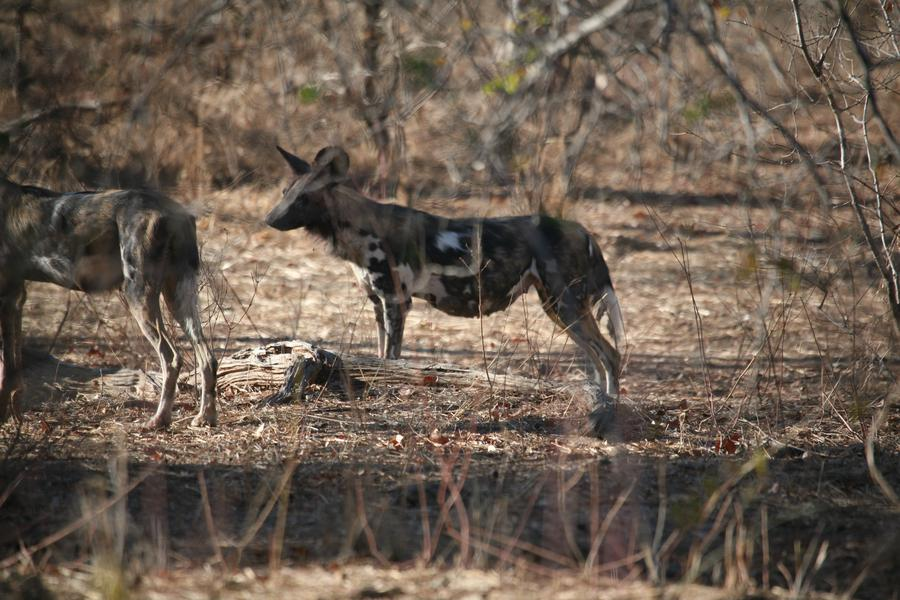wilddog: (270, 144, 619, 371), (21, 183, 193, 302)
